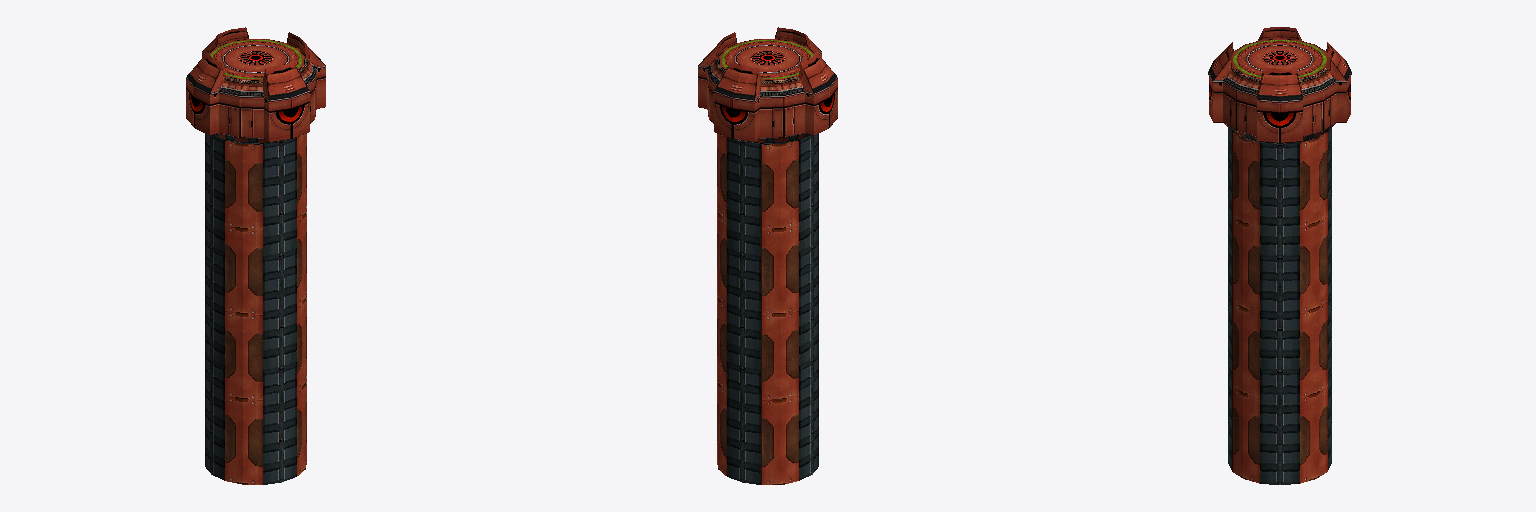
The picture shows the model from 3 angles: view 1: azimuth 30°, elevation 25°; view 2: azimuth 150°, elevation 25°; view 3: azimuth 270°, elevation 25°; orthographic projection.
Parts seen in each view (by area): view 1: polygon1, polygon2, polygon0; view 2: polygon1, polygon2, polygon0; view 3: polygon2, polygon1, polygon0.
Boxes of the visible parts, x1,y1,x2,y2 form: polygon1: [205, 122, 311, 484]; polygon2: [225, 134, 306, 484]; polygon0: [186, 27, 325, 141]; polygon1: [712, 122, 818, 484]; polygon2: [717, 134, 798, 484]; polygon0: [698, 27, 837, 141]; polygon2: [1232, 132, 1327, 483]; polygon1: [1224, 123, 1335, 484]; polygon0: [1208, 27, 1351, 142].
Bounding box in the file's own units: 140 × 451 × 140.
Materials: 3 (3 with a texture image).